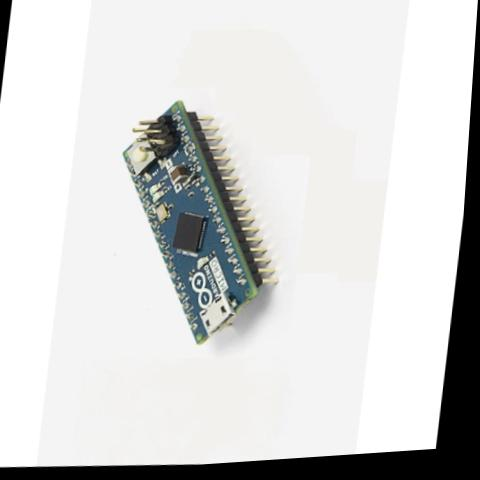Arduino-Micro: (97, 88, 302, 360)
